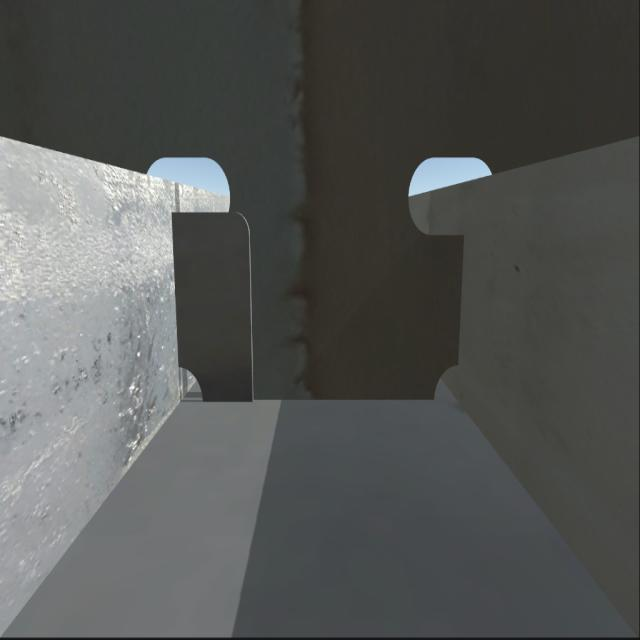fillet_hole: (176, 359, 209, 401), (432, 362, 461, 403)
fillet_yong_jeop_jang: (203, 388, 438, 410)
longi_yong_jeop_jang: (164, 211, 183, 360), (449, 241, 468, 362)
plate_CP05: (173, 209, 251, 398)
